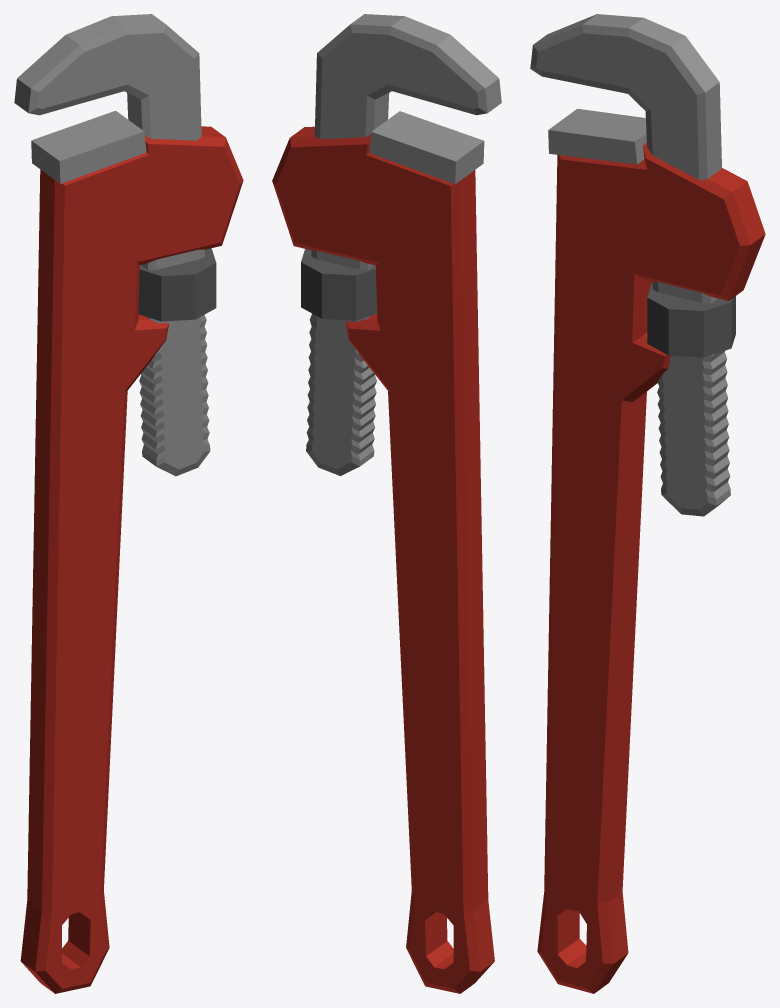
Rendered from Nut_Key_Adjust_vc.fbx.
The picture shows the model from 3 angles, left to right: view 1: azimuth 30°, elevation 25°; view 2: azimuth 150°, elevation 25°; view 3: azimuth 330°, elevation 25°; orthographic projection. The views are drawn at different scales.
Visible parts, largest first — view 1: Nut_Key_Adjust_vc; view 2: Nut_Key_Adjust_vc; view 3: Nut_Key_Adjust_vc.
Boxes of the visible parts, bbox=[...] form: Nut_Key_Adjust_vc: bbox=[14, 14, 243, 993]; Nut_Key_Adjust_vc: bbox=[272, 14, 501, 993]; Nut_Key_Adjust_vc: bbox=[530, 14, 765, 993].
Bounding box in the file's own units: 9.28 × 39.22 × 3.35.
